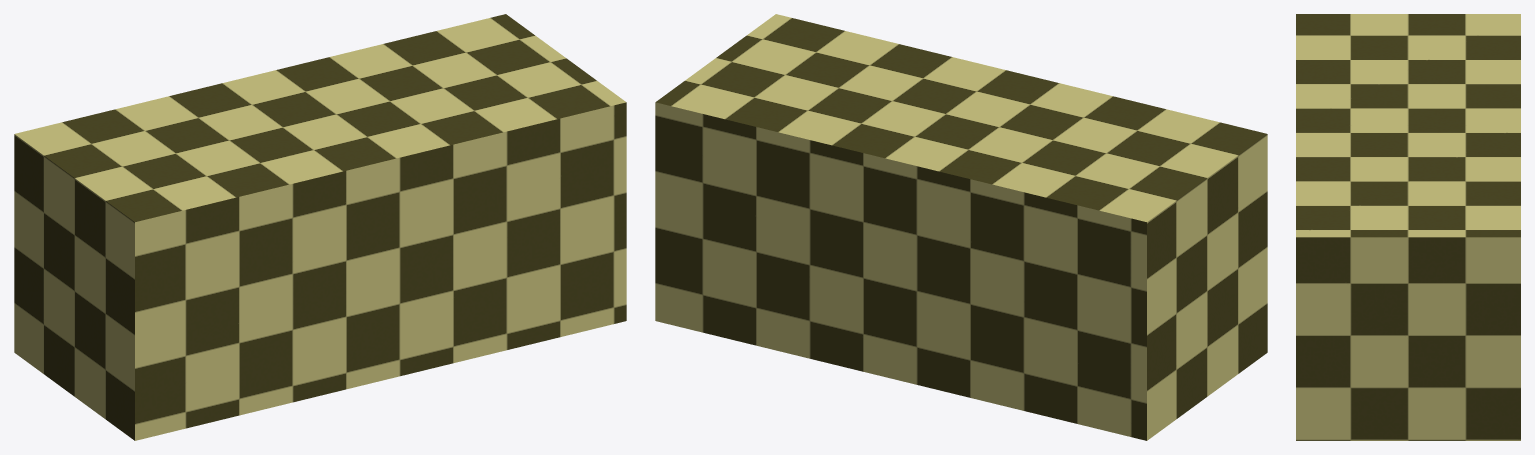
File: cube_multi_uv.fbx
3 views of the same model, side by side, from view 1: azimuth 30°, elevation 25°; view 2: azimuth 150°, elevation 25°; view 3: azimuth 270°, elevation 25° (orthographic). The views are drawn at different scales.
Parts seen in each view (by area): view 1: cube; view 2: cube; view 3: cube.
Part boxes in pixels (left/top/right/bottom): cube: left=14, top=14, right=626, bottom=440; cube: left=655, top=14, right=1267, bottom=440; cube: left=1296, top=14, right=1520, bottom=440.
Bounding box in the file's own units: 10.63 × 4.52 × 4.52.
